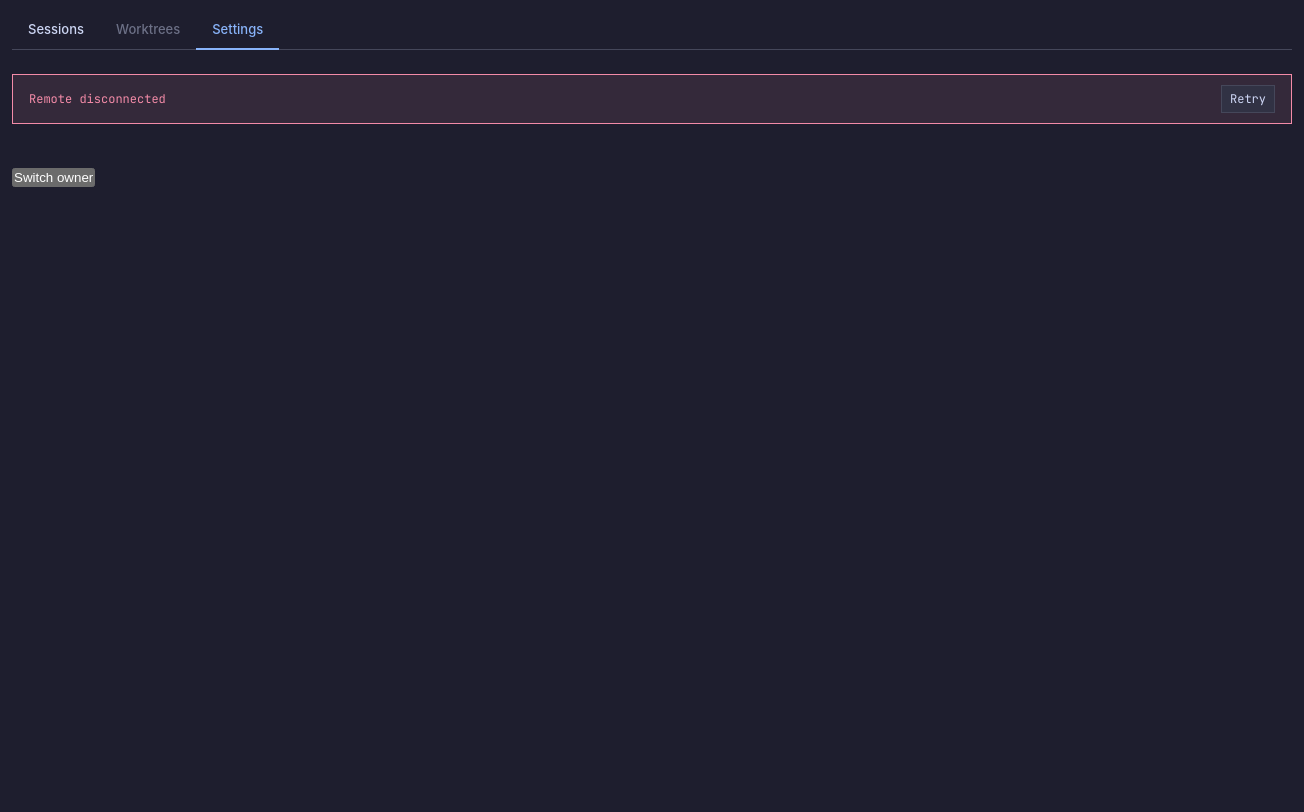
it: ProjectSettingsView › retries a disconnected owner without reading or writing local settings
Check: the message shows "Remote disconnected", box [29,90,166,106]
Click the button "Retry": (1248, 98) [1221,84,1275,112]
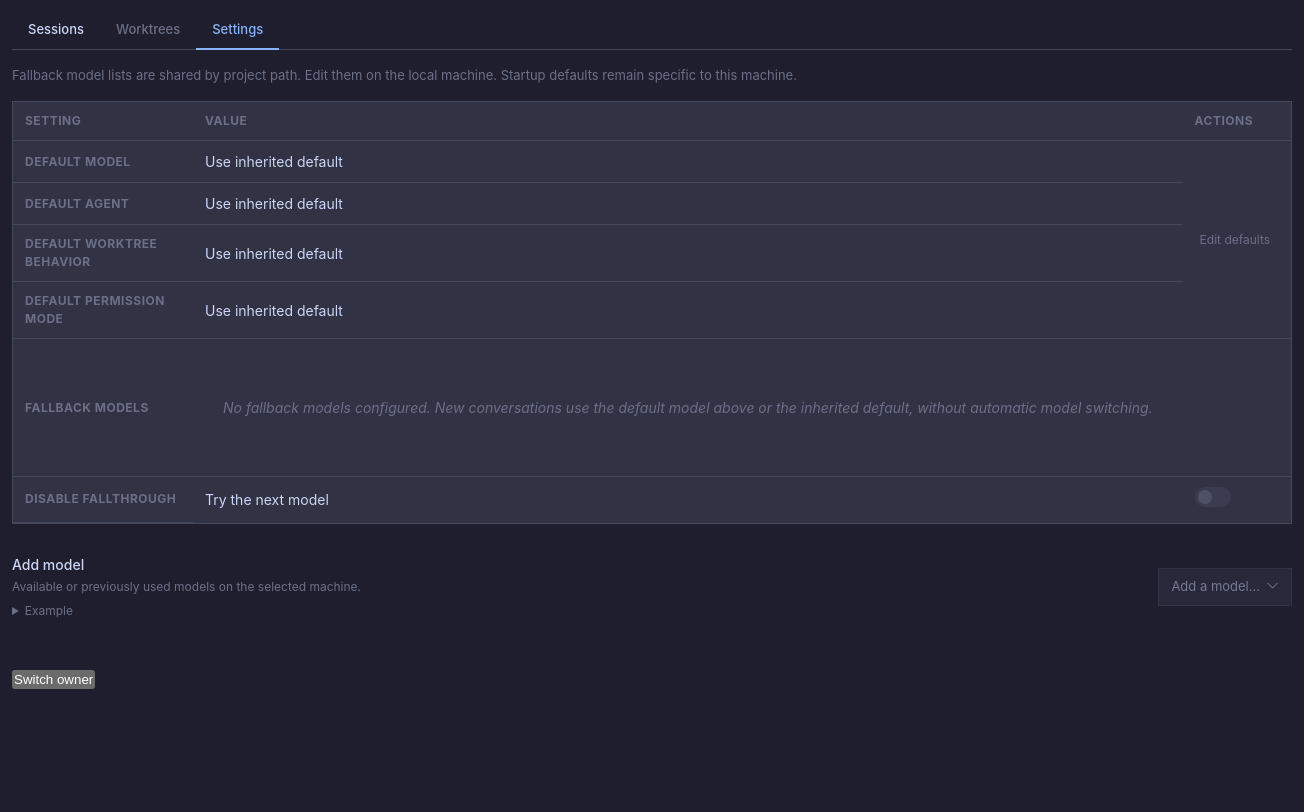
Check: the table named "Project settings" is shown, box [13,102,1291,522]
